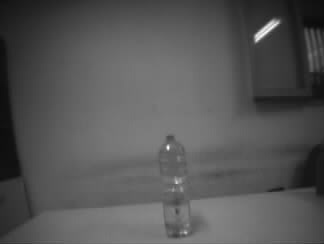Bottle: (155, 133, 193, 239)
